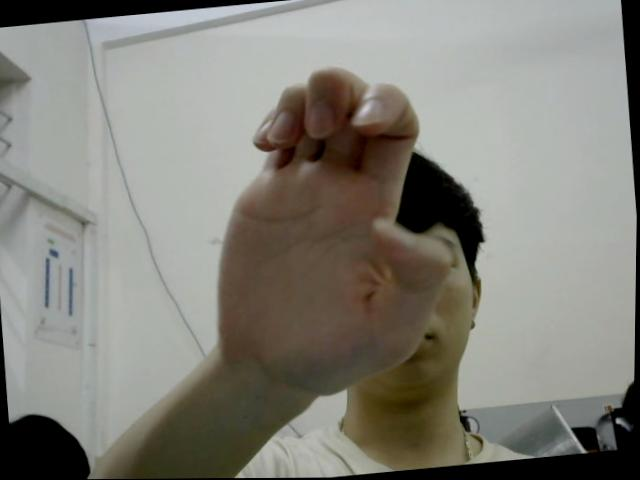E: (187, 53, 464, 403)
